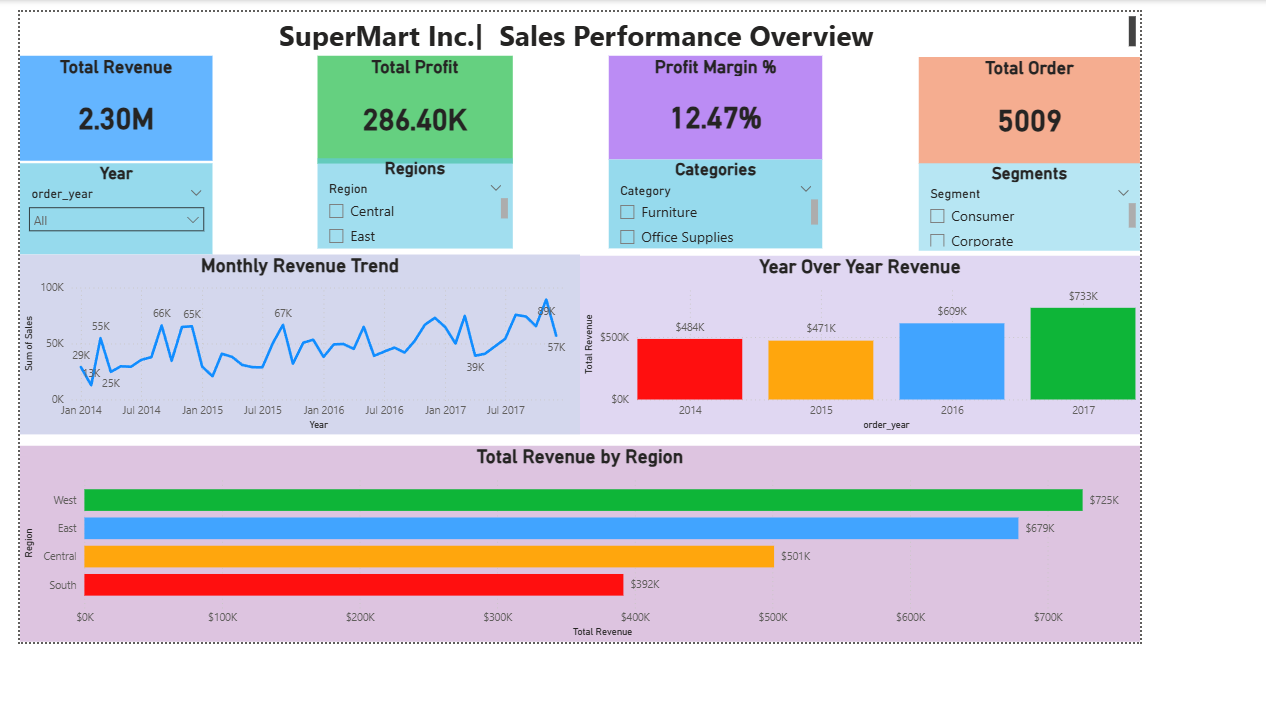

What the dashboard file says about the page in this screenshot:
{"tool":"powerbi","page":{"name":"Executive  Overview","canvas":[1280,720],"ordinal":0},"visuals":[{"type":"card","title":"Total Revenue","fields":{"Values":["Sum(superstore.Sales)"]},"box":[0,50,220,120],"z":0},{"type":"card","title":"Total Profit","fields":{"Values":["Sum(superstore.Profit)"]},"box":[340,50,222.9,122.9],"z":1000},{"type":"card","title":"Profit Margin %","fields":{"Values":["superstore.Profit Margin %"]},"box":[672.9,50,244.3,118.6],"z":2000},{"type":"card","title":"Total Order","fields":{"Values":["superstore.Total Orders"]},"box":[1027.1,51.4,252.9,121.4],"z":3000},{"type":"textbox","box":[0,0,1280,48.6],"z":4000},{"type":"lineChart","title":"Monthly Revenue Trend","fields":{"Y":["Sum(superstore.Sales)"],"Category":["superstore.Order Date.Variation.Date Hierarchy.Year","superstore.Order Date.Variation.Date Hierarchy.Quarter","superstore.Order Date.Variation.Date Hierarchy.Month"]},"box":[0,277.1,640,205.7],"z":5000},{"type":"barChart","fields":{"Category":["superstore.Region"],"Y":["superstore.Total Revenue"]},"box":[0,495.7,1280,224.3],"z":6000},{"type":"clusteredColumnChart","title":"Year Over Year Revenue","fields":{"Category":["superstore.order_year"],"Y":["superstore.Total Revenue"]},"box":[640,278.6,640,204.3],"z":7000},{"type":"slicer","title":"Year","fields":{"Values":["superstore.order_year"]},"box":[0,172.9,220,104.3],"z":8000},{"type":"slicer","title":"Regions","fields":{"Values":["superstore.Region"]},"box":[340,167.1,222.9,102.9],"z":9000},{"type":"slicer","title":"Categories","fields":{"Values":["superstore.Category"]},"box":[672.9,168.6,244.3,101.4],"z":10000},{"type":"slicer","title":"Segments","fields":{"Values":["superstore.Segment"]},"box":[1027.1,172.9,252.9,100],"z":11000}]}

Visuals, with their boxes in screenshot pixels (x1, y1, x2, y2), scaled from the page's 1280x720 canvas onto the 1266x728 screenshot:
"Total Revenue" card: locate(0, 51, 218, 172)
"Total Profit" card: locate(336, 51, 557, 175)
"Profit Margin %" card: locate(666, 51, 907, 170)
"Total Order" card: locate(1016, 52, 1265, 175)
textbox: locate(0, 0, 1265, 49)
"Monthly Revenue Trend" lineChart: locate(0, 280, 633, 488)
barChart - superstore.Region x superstore.Total Revenue: locate(0, 501, 1265, 727)
"Year Over Year Revenue" clusteredColumnChart: locate(633, 282, 1265, 488)
"Year" slicer: locate(0, 175, 218, 280)
"Regions" slicer: locate(336, 169, 557, 273)
"Categories" slicer: locate(666, 170, 907, 273)
"Segments" slicer: locate(1016, 175, 1265, 276)
